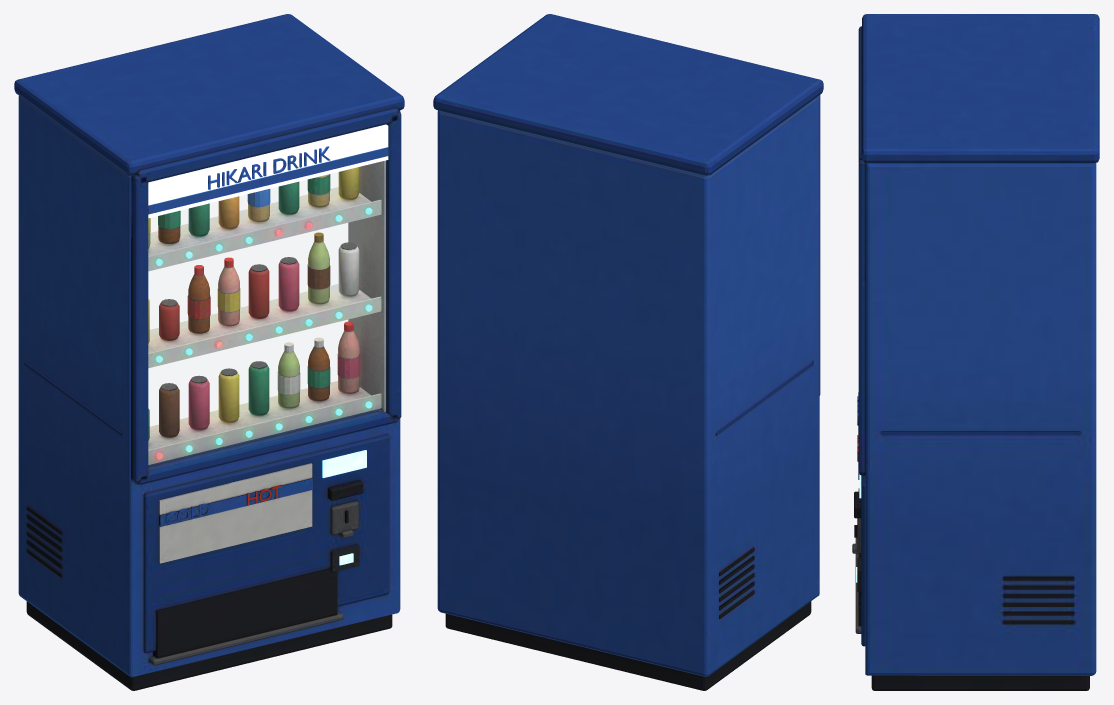
File: vending_blue.glb
3 renders of one model, left to right at view 1: azimuth 30°, elevation 25°; view 2: azimuth 150°, elevation 25°; view 3: azimuth 270°, elevation 25°, orthographic. The views are drawn at different scales.
Parts seen in each view (by area): view 1: vending_blue; view 2: vending_blue; view 3: vending_blue.
Part boxes in pixels (x1,y1,x2,y2): vending_blue: (14,14,404,690); vending_blue: (433,14,823,690); vending_blue: (852,14,1099,690).
Bounding box in the file's own units: 1.02 × 1.87 × 0.77.
Materials: 2 (1 with a texture image).
